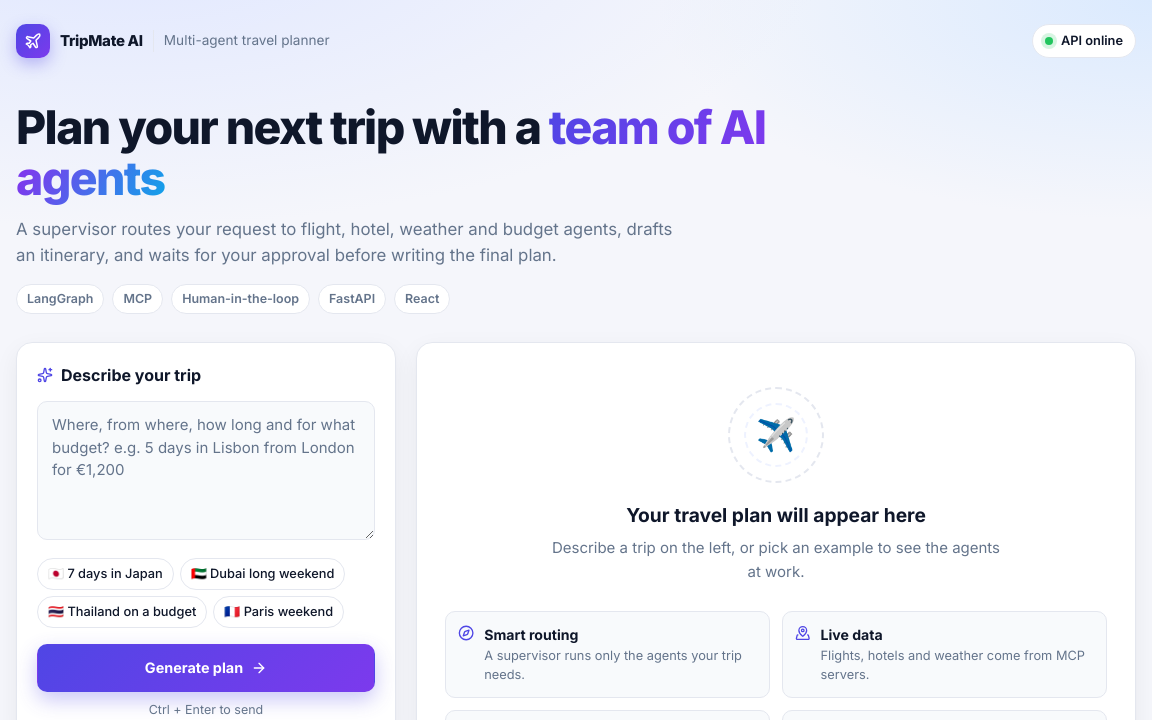
Scenario: App › switches to the specialist tabs
Type "Plan 3 days in Tokyo" into the text box named "Travel request" at (206, 471), box left=37, top=401, right=375, bottom=540
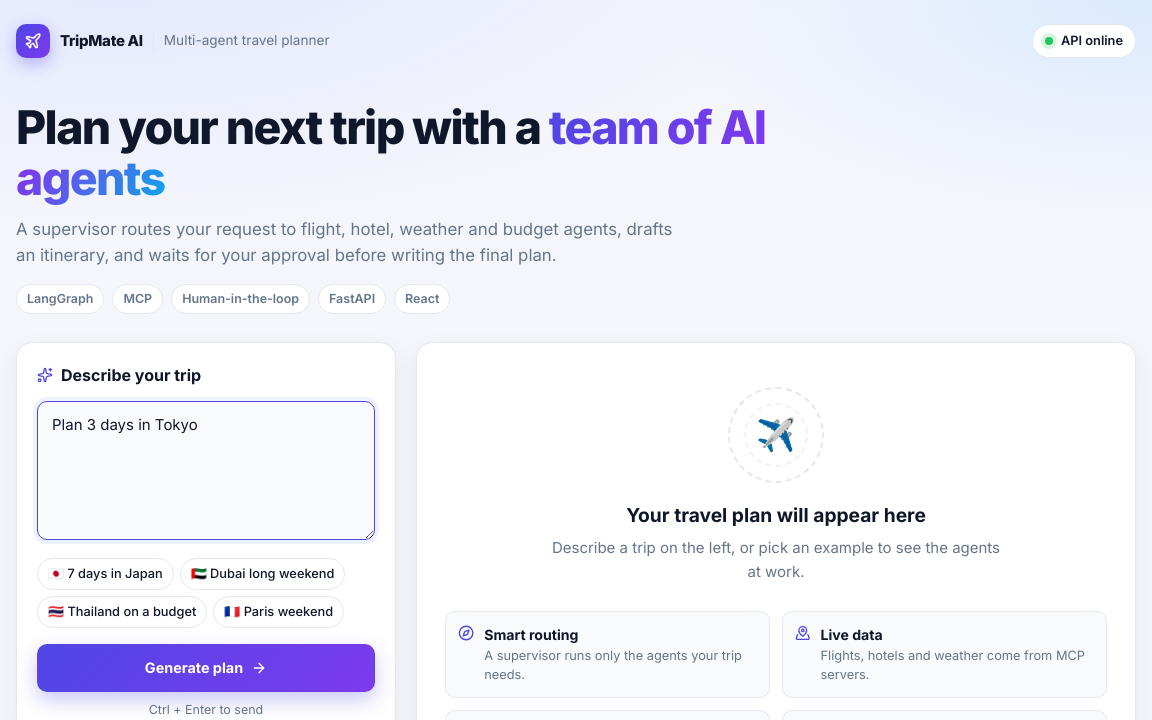
Click the button "Generate plan" at (206, 668), box left=37, top=644, right=375, bottom=692
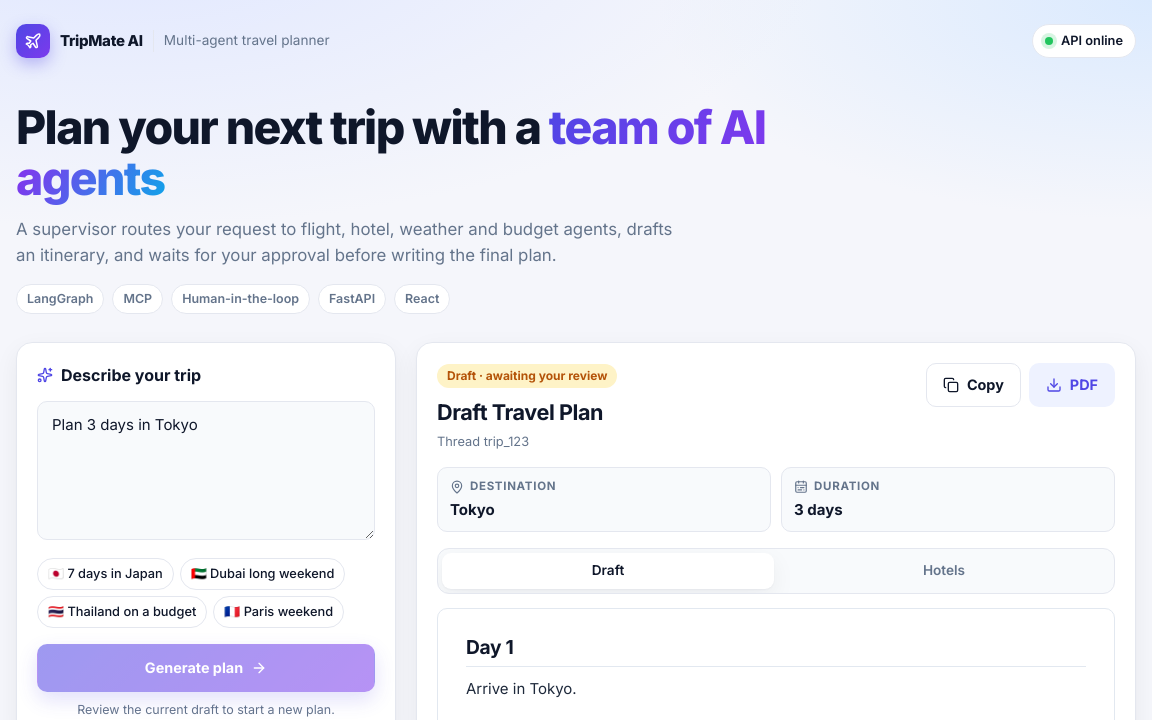
Now the heading "Draft Travel Plan" is shown, box left=437, top=396, right=617, bottom=430
Click the tab "Hotels" at (944, 571), box left=778, top=554, right=1110, bottom=589
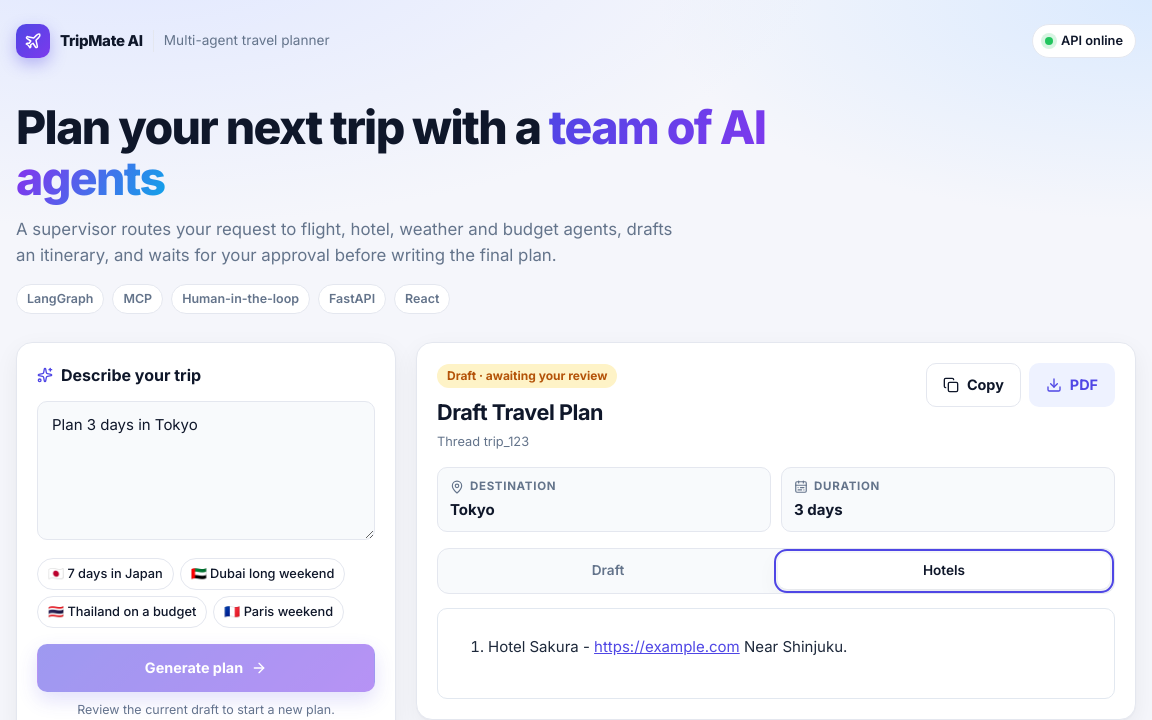
Expected: the tab "Flights" is not shown
Now the list item "Hotel Sakura - https://example.com Near Shinjuku." is shown, box left=488, top=636, right=847, bottom=656
